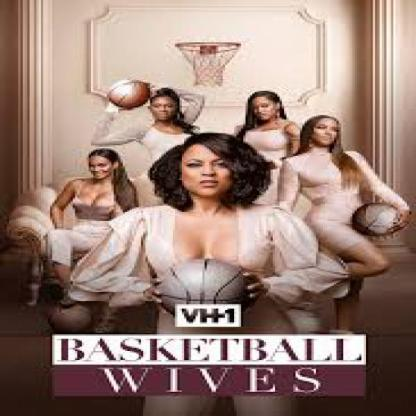basketball: (157, 260, 250, 316), (354, 204, 404, 238), (107, 79, 150, 109), (50, 304, 93, 331)
rim: (175, 41, 243, 53)
